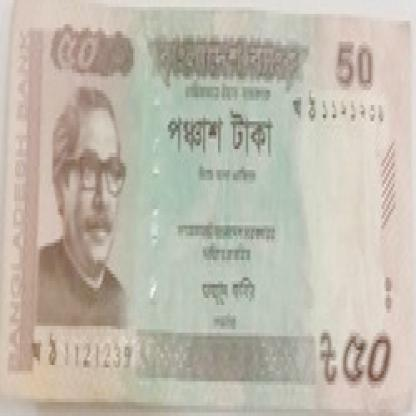Fifty taka: (323, 319, 414, 412), (48, 24, 125, 94)
